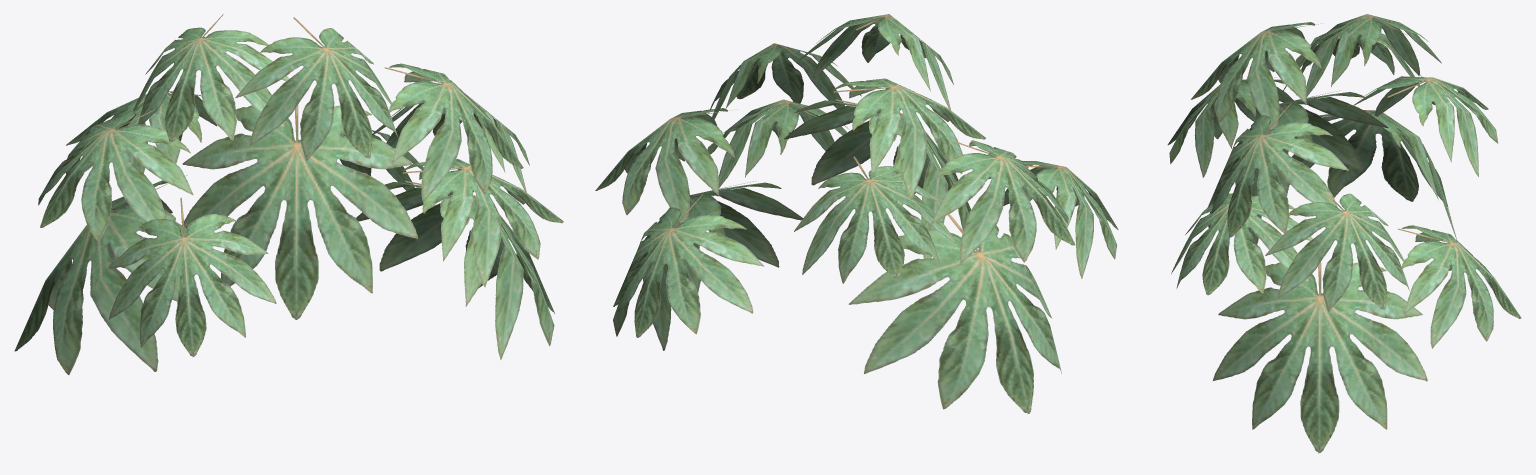
The model's file is Plant01Plant01.FBX.
3 renders of one model, left to right at view 1: azimuth 30°, elevation 25°; view 2: azimuth 150°, elevation 25°; view 3: azimuth 270°, elevation 25°, orthographic. The views are drawn at different scales.
Parts seen in each view (by area): view 1: Plant01Plant01; view 2: Plant01Plant01; view 3: Plant01Plant01.
Part boxes in pixels (x1=…): Plant01Plant01: x1=14, y1=14, x2=563, y2=374; Plant01Plant01: x1=595, y1=14, x2=1118, y2=414; Plant01Plant01: x1=1167, y1=14, x2=1521, y2=453.
Bounding box in the file's own units: 1.61 × 1.27 × 1.14.
